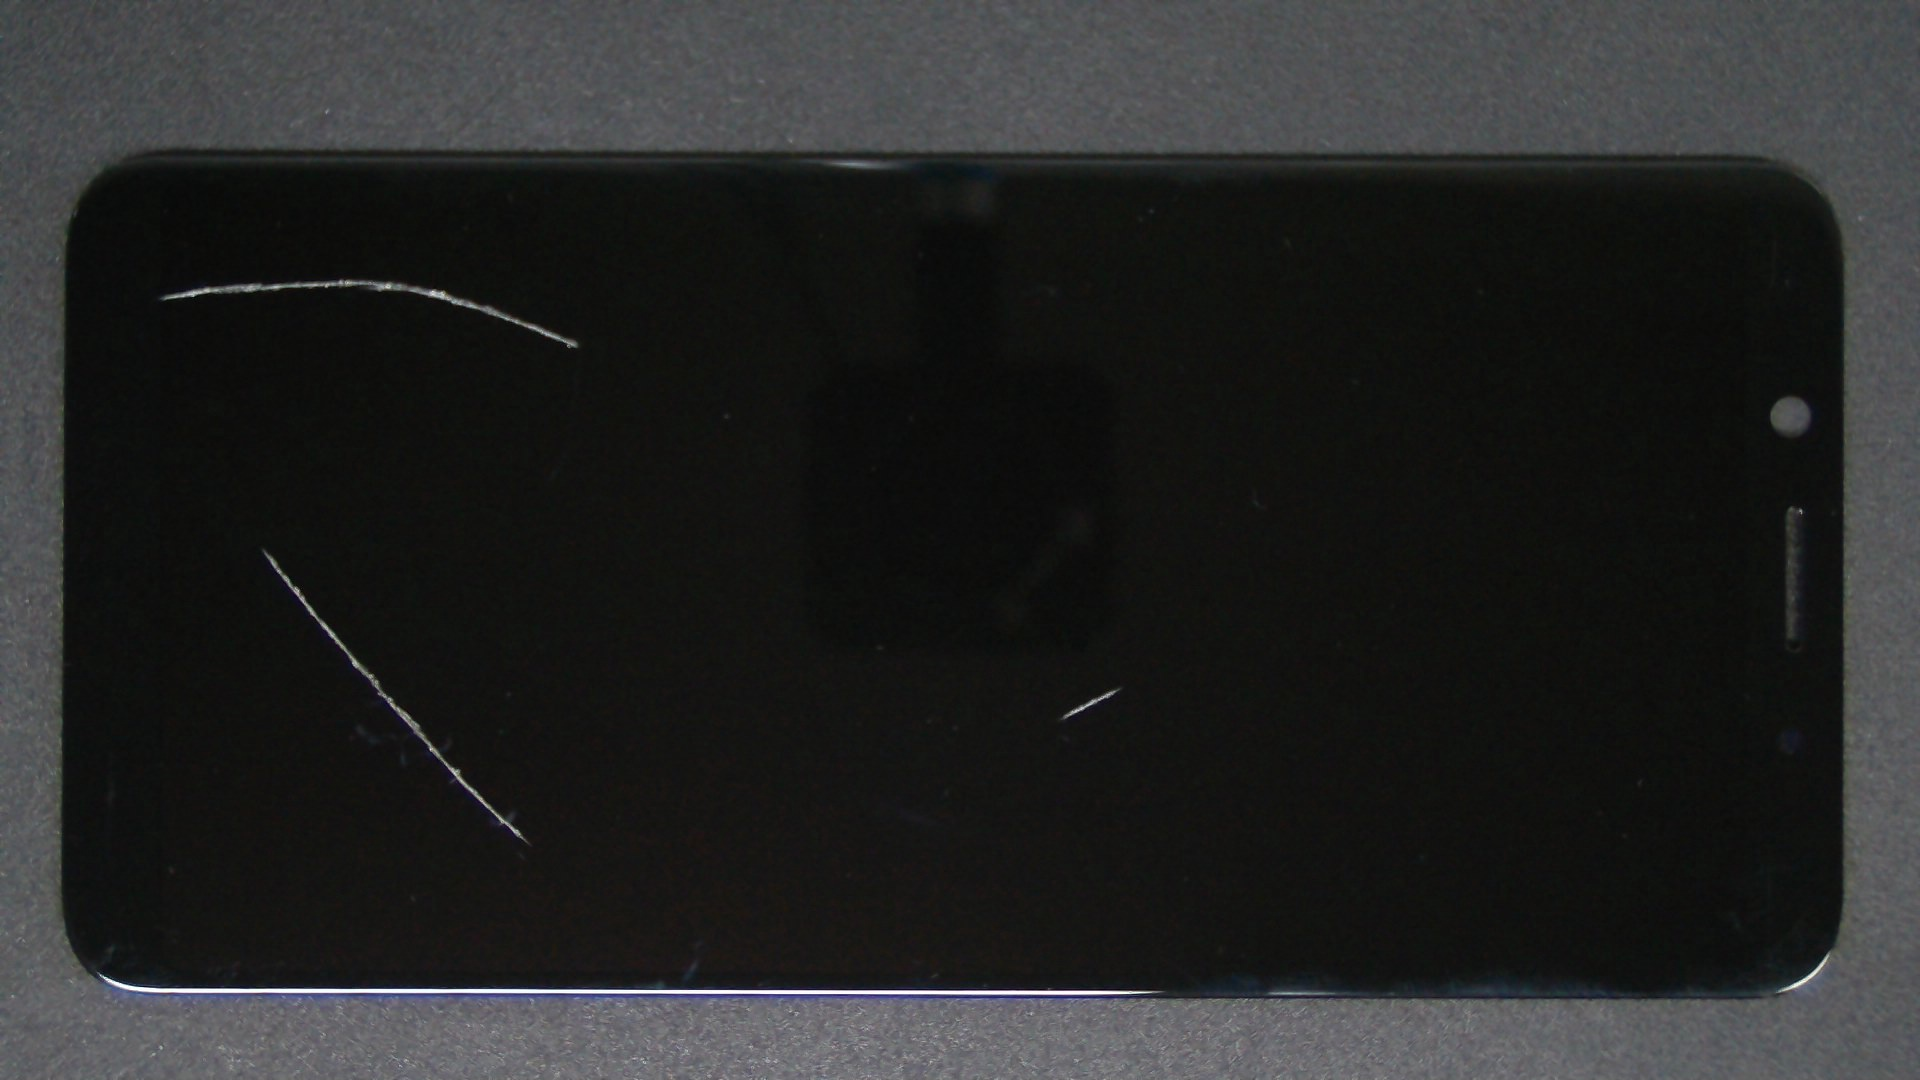oil: (560, 343, 1681, 1031), (132, 274, 394, 824), (174, 138, 518, 418)
